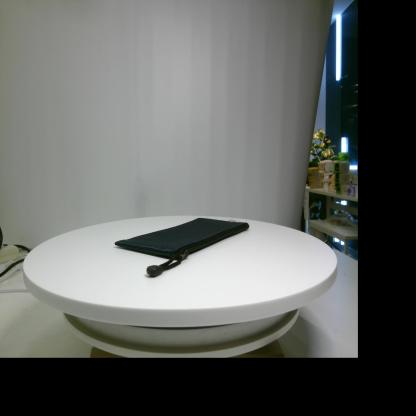Stationery: (114, 218, 250, 276)
